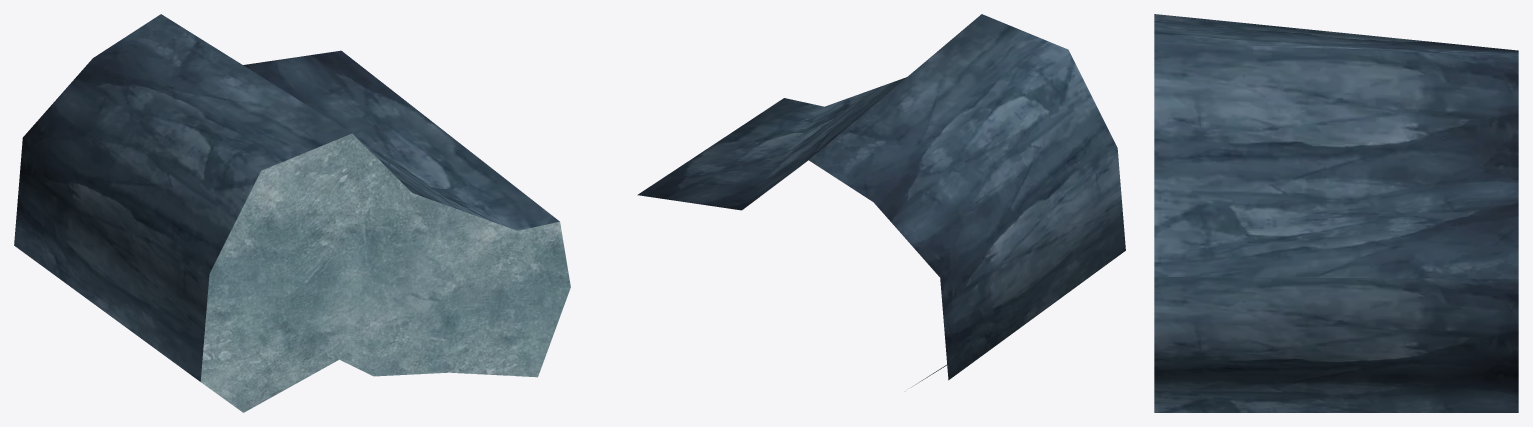
3 renders of one model, left to right at view 1: azimuth 30°, elevation 25°; view 2: azimuth 150°, elevation 25°; view 3: azimuth 270°, elevation 25°, orthographic. The views are drawn at different scales.
Visible parts, largest first — view 1: model_Object08; view 2: model_Object08; view 3: model_Object08.
Boxes of the visible parts, bbox=[...] form: model_Object08: bbox=[14, 14, 570, 412]; model_Object08: bbox=[637, 14, 1125, 387]; model_Object08: bbox=[1154, 14, 1518, 412].
Bounding box in the file's own units: 4.96 × 3.73 × 4.33.
Materials: 2 (2 with a texture image).
